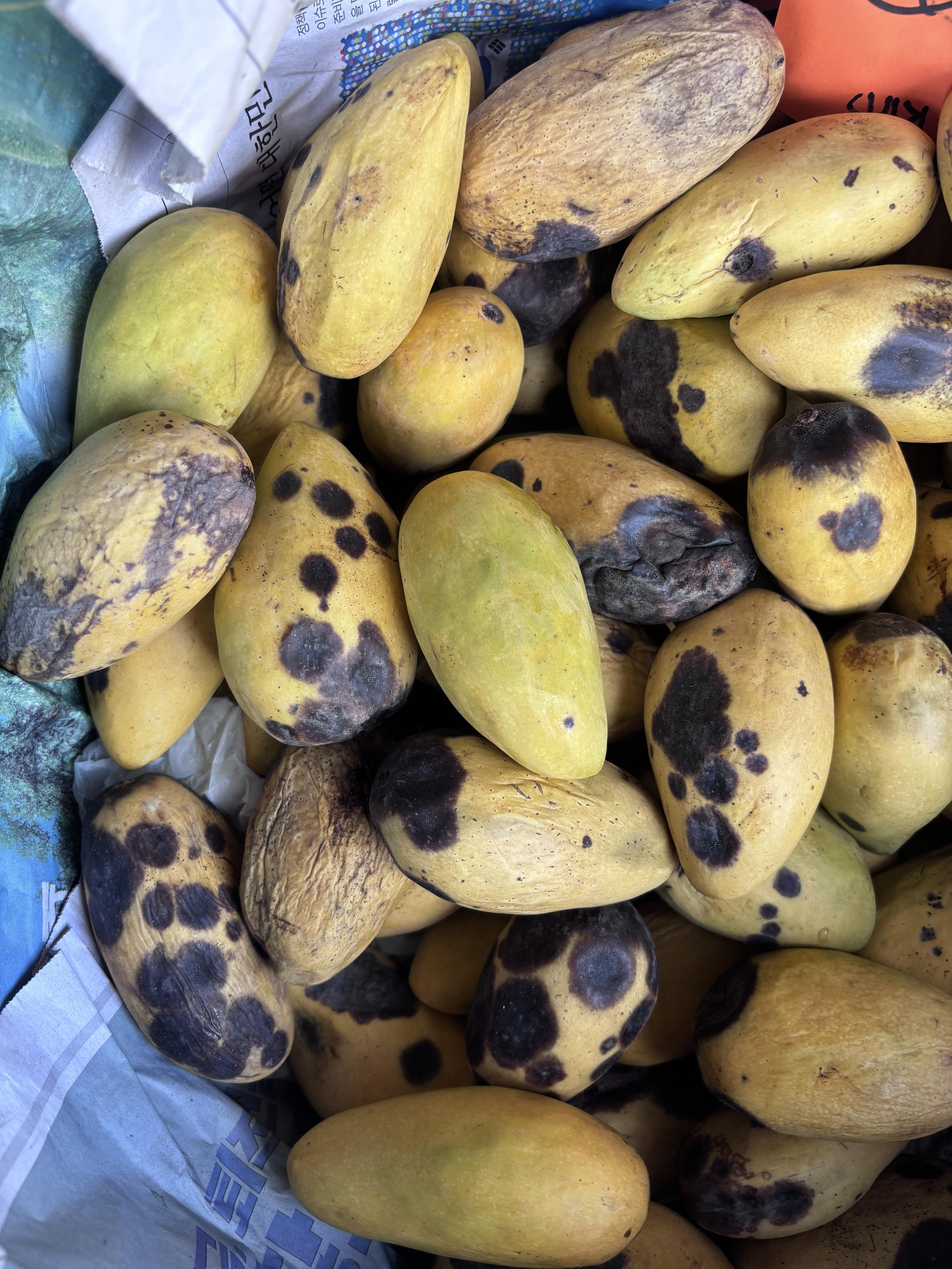mango: (0, 411, 255, 681), (612, 113, 938, 318), (277, 39, 471, 379), (288, 1086, 648, 1269), (399, 471, 606, 778), (645, 589, 833, 899), (747, 403, 916, 614)
occluded: (456, 0, 785, 263), (215, 422, 417, 746), (82, 775, 293, 1081), (370, 731, 675, 916), (472, 434, 757, 624), (694, 948, 952, 1142), (73, 208, 280, 447), (240, 733, 414, 986), (567, 296, 786, 481), (730, 265, 952, 442), (467, 901, 657, 1101), (822, 612, 952, 855), (659, 807, 876, 952), (357, 286, 524, 474), (289, 948, 474, 1117), (678, 1109, 906, 1240), (728, 1155, 952, 1269), (84, 592, 223, 769), (621, 896, 749, 1065), (572, 1054, 717, 1202), (444, 222, 603, 347), (232, 334, 357, 472), (859, 844, 952, 995), (409, 908, 510, 1015), (886, 489, 952, 649), (276, 109, 339, 244), (593, 613, 657, 743), (621, 1202, 731, 1269), (378, 874, 458, 936), (512, 337, 567, 414), (443, 32, 485, 113), (242, 712, 283, 777), (936, 91, 952, 219), (860, 848, 895, 874), (273, 674, 273, 674)
